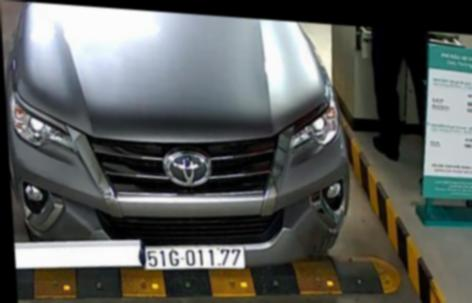License_Plate: (138, 240, 257, 274)
